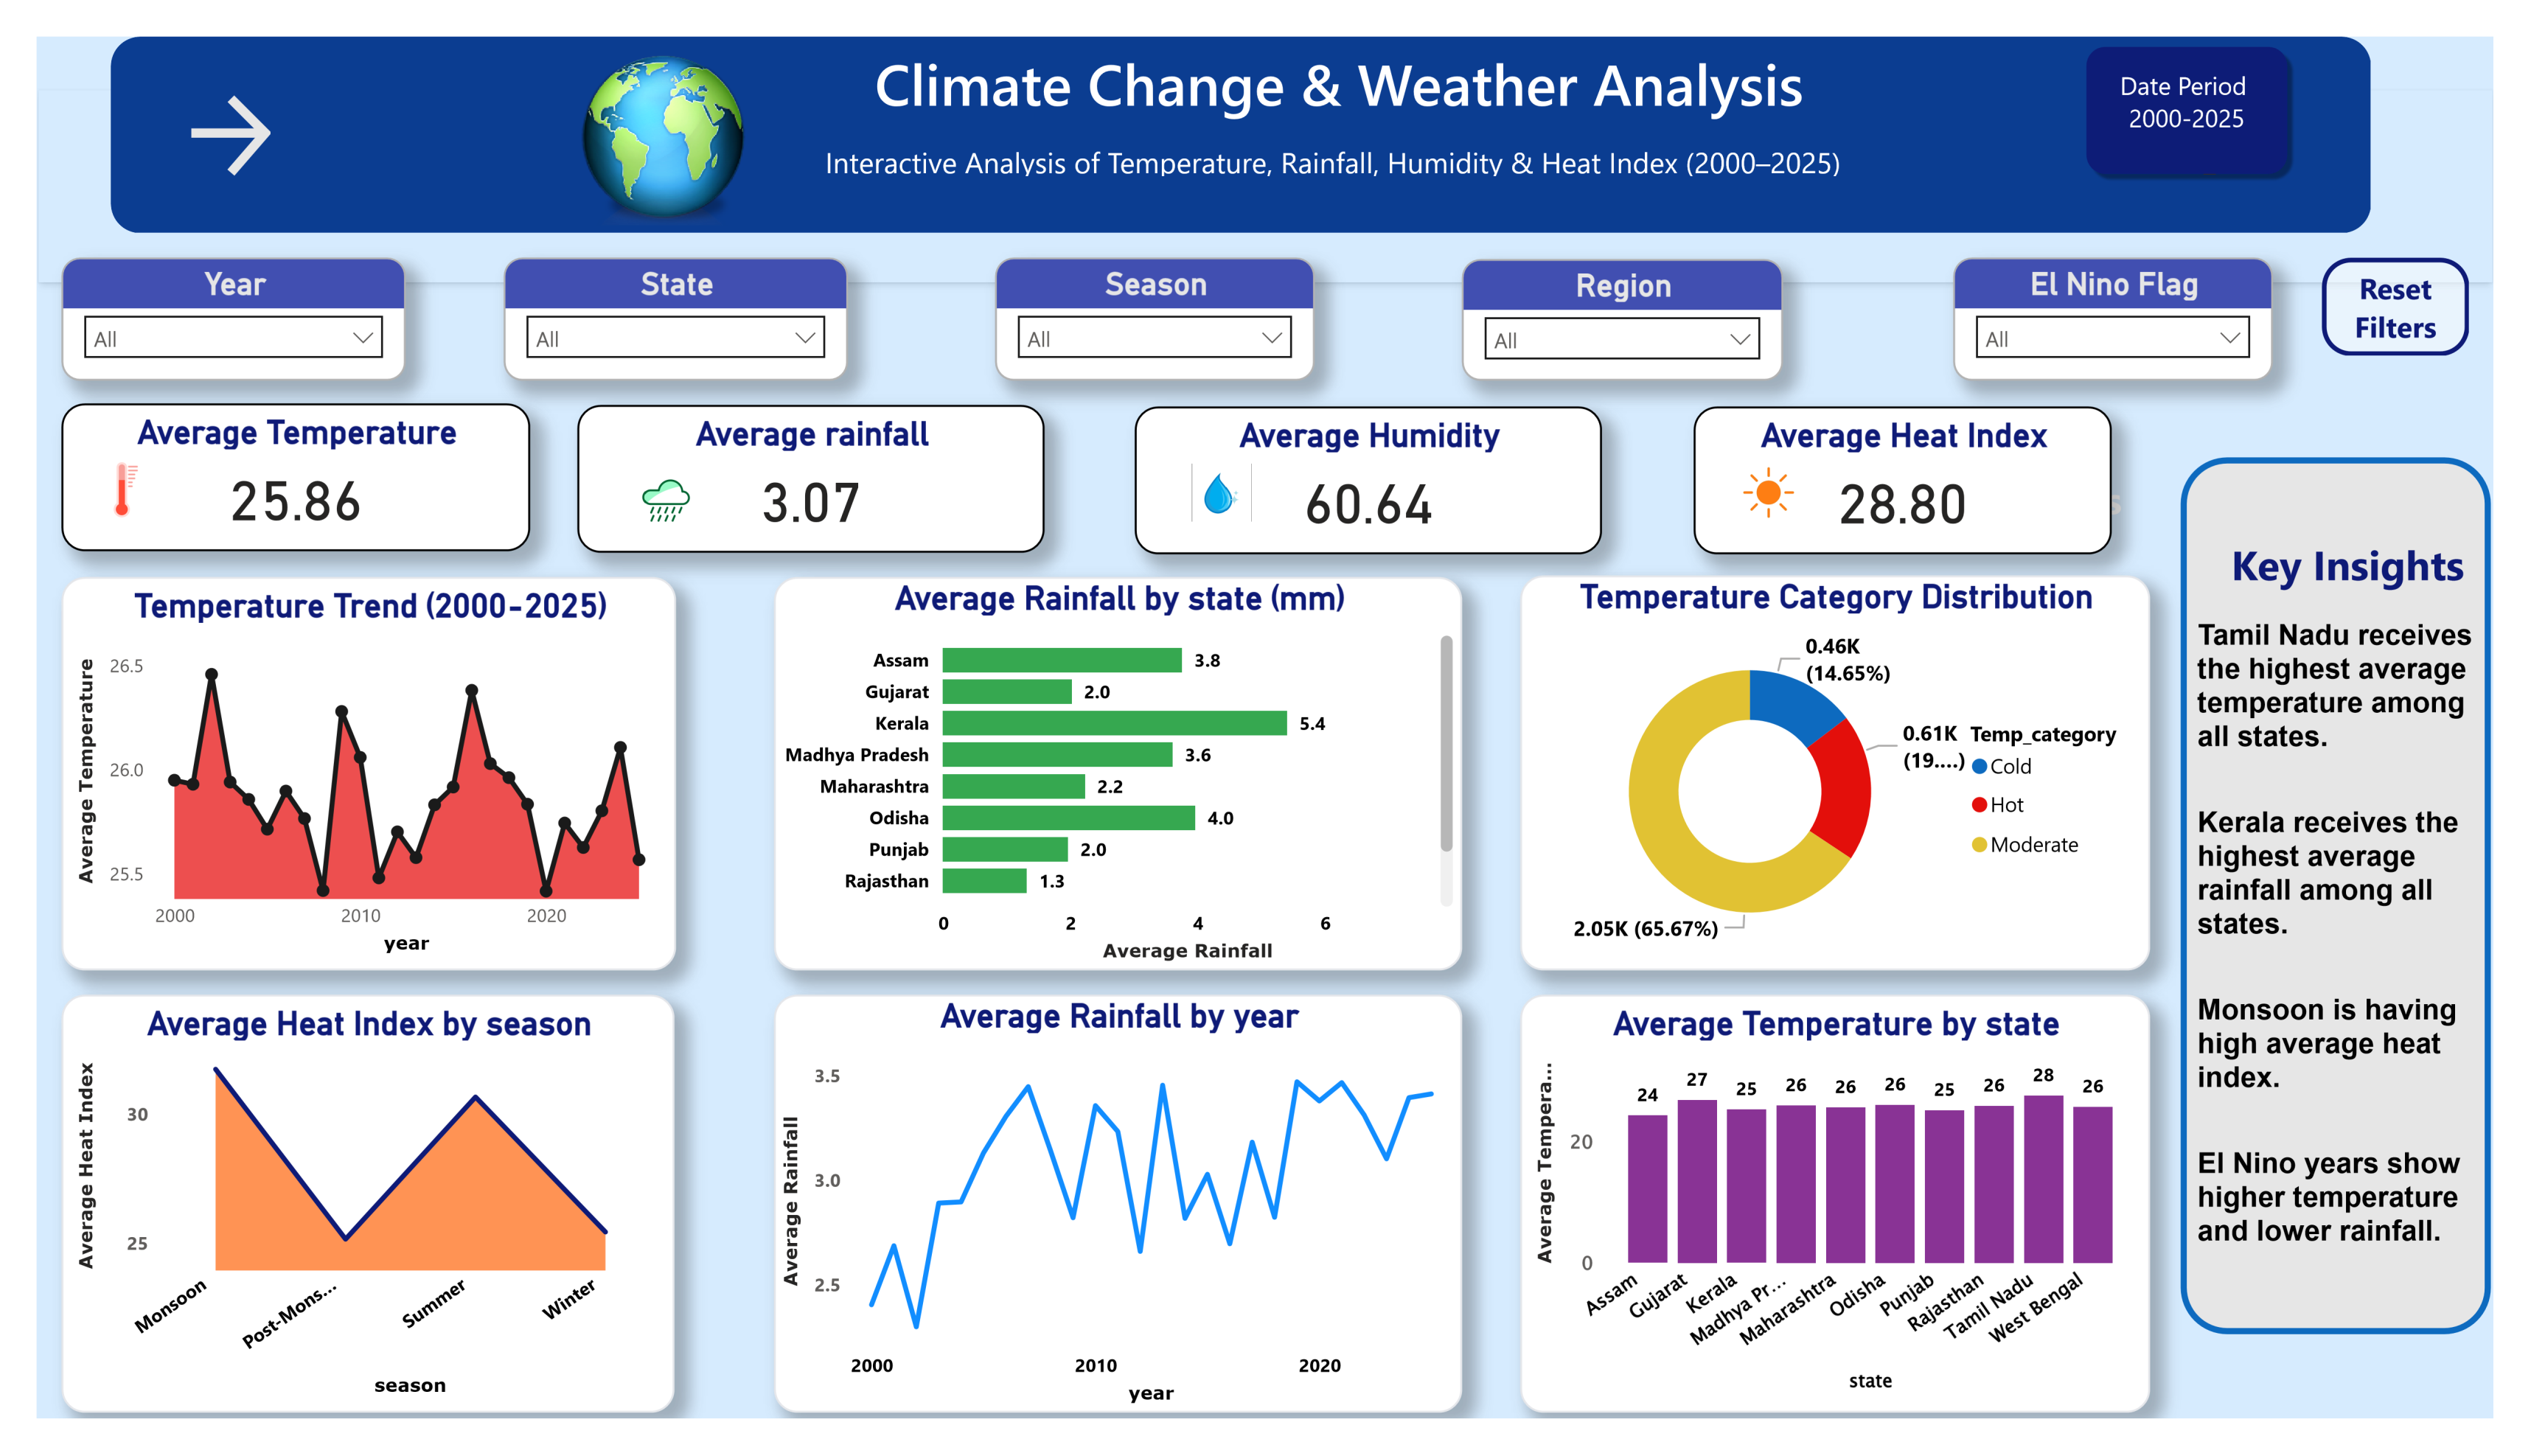

This screenshot's page, from the dashboard's own definition file:
{"tool":"powerbi","page":{"name":"Analysis","canvas":[1600,900],"ordinal":0},"visuals":[{"type":"slicer","title":"Season","fields":{"Values":["climate_analysis climate_data.season"]},"box":[624,144,208,80],"z":0},{"type":"card","title":"Average Temperature","fields":{"Values":["climate_analysis climate_data.Average Temperature"]},"box":[16,240,304,96],"z":0,"group":"g2"},{"type":"slicer","title":"State","fields":{"Values":["climate_analysis climate_data.state"]},"box":[304,144,224,80],"z":1000},{"type":"image","box":[32,272,48,48],"z":1000,"group":"g2"},{"type":"shape","box":[1396.3,273.7,202.1,570.7],"z":1000,"group":"g8"},{"type":"slicer","title":"El Nino Flag","fields":{"Values":["climate_analysis climate_data.el_nino_flag"]},"box":[1248,144,208,80],"z":2000},{"type":"textbox","box":[1402.5,373.2,192.8,451.4],"z":2000,"group":"g8"},{"type":"slicer","title":"Region","fields":{"Values":["climate_analysis climate_data.region"]},"box":[928.3,144.6,208.4,79.3],"z":3000},{"type":"card","title":"Average Humidity","fields":{"Values":["climate_analysis climate_data.Average Humidity"]},"box":[715.3,241,304,96],"z":4000,"group":"g6"},{"type":"textbox","box":[1216.4,279.8,148.1,62.5],"z":4000},{"type":"image","box":[543,96,55.1,32],"z":5000},{"type":"image","box":[763.6,96,36.8,32],"z":6000},{"type":"card","title":"Average rainfall","fields":{"Values":["climate_analysis climate_data.Average Rainfall"]},"box":[352,240,304,96],"z":6000,"group":"g3"},{"type":"image","box":[965.8,96,55.1,32],"z":7000},{"type":"image","box":[322.4,96,55.1,32],"z":8000},{"type":"card","title":"Average Heat Index","fields":{"Values":["climate_analysis climate_data.average Heat Index"]},"box":[1079.1,241,272,96],"z":8000,"group":"g4"},{"type":"shape","box":[48,0,1472,128],"z":9000},{"type":"textbox","box":[304,0,1088,64],"z":10000},{"type":"textbox","box":[272,64,1152,32],"z":11000},{"type":"image","box":[304,0,208,128],"z":12000},{"type":"slicer","title":"Year","fields":{"Values":["climate_analysis climate_data.year"]},"box":[16,144,224,80],"z":12000,"group":"g1"},{"type":"shape","box":[1328,0,144,96],"z":13000,"group":"g5"},{"type":"actionButton","title":"Reset Filters","box":[1488,144,96,64],"z":13000},{"type":"textbox","box":[1344,16,112,64],"z":14000,"group":"g5"},{"type":"group","id":"g1","title":"Group 1","box":[16,144,224,80],"z":14000},{"type":"group","id":"g2","title":"Group 3","box":[16,240,304,96],"z":15000},{"type":"group","id":"g3","title":"Group 4","box":[352,240,304,98],"z":16000},{"type":"group","id":"g4","title":"Group 5","box":[1079.1,241,272.1,96.4],"z":17000},{"type":"lineChart","title":"Temperature Trend (2000-2025)","fields":{"Category":["climate_analysis climate_data.year"],"Y":["climate_analysis climate_data.Average Temperature"]},"box":[16,352,400,256],"z":18000},{"type":"group","id":"g5","title":"Group 2","box":[1328,0,144,96],"z":19000},{"type":"group","id":"g6","title":"Group 6","box":[715.3,241,304.8,96.4],"z":20000},{"type":"image","box":[358.2,266.4,102.6,71.5],"z":20004,"group":"g3"},{"type":"image","box":[731.3,273,80,48],"z":20006,"group":"g6"},{"type":"image","box":[1095.1,273,64,48],"z":20008,"group":"g4"},{"type":"clusteredBarChart","title":"Average Rainfall by state (mm)","fields":{"Category":["climate_analysis climate_data.state"],"Y":["climate_analysis climate_data.Average Rainfall"]},"box":[480,352,448,256],"z":21000},{"type":"donutChart","title":"Temperature Category Distribution","fields":{"Category":["climate_analysis climate_data.temp_category"],"Y":["CountNonNull(climate_analysis climate_data.temp_category)"]},"box":[965.6,351.4,410.5,256.6],"z":22000},{"type":"areaChart","fields":{"Category":["climate_analysis climate_data.season"],"Y":["climate_analysis climate_data.Average Heat Index"]},"box":[15.5,623.5,399.6,272.1],"z":23000},{"type":"columnChart","fields":{"Y":["climate_analysis climate_data.Average Temperature"],"Category":["climate_analysis climate_data.state"]},"box":[965.6,623.5,410.5,272.1],"z":24000},{"type":"lineChart","fields":{"Category":["climate_analysis climate_data.year"],"Y":["climate_analysis climate_data.Average Rainfall"]},"box":[480,624,448,272],"z":25000},{"type":"group","id":"g7","title":"Group 7","box":[1396.3,273.7,202.1,570.7],"z":26000},{"type":"group","id":"g8","title":"Group 8","box":[1396.3,273.7,202.1,570.7],"z":26003,"group":"g7"},{"type":"textbox","box":[1424.3,320.3,174.2,51.3],"z":27000},{"type":"actionButton","box":[80.9,32.7,87.1,63.8],"z":27001}]}

Visuals, with their boxes on the page's 1600x900 design canvas (x1, y1, x2, y2). These are canvas units, not pixel positions in the 2531x1456 screenshot, which may show the page scaled, cropped or inside an application window:
"Season" slicer: {"x1": 624, "y1": 144, "x2": 832, "y2": 224}
"Average Temperature" card: {"x1": 16, "y1": 240, "x2": 320, "y2": 336}
"State" slicer: {"x1": 304, "y1": 144, "x2": 528, "y2": 224}
image: {"x1": 32, "y1": 272, "x2": 80, "y2": 320}
shape: {"x1": 1396, "y1": 274, "x2": 1598, "y2": 844}
"El Nino Flag" slicer: {"x1": 1248, "y1": 144, "x2": 1456, "y2": 224}
textbox: {"x1": 1402, "y1": 373, "x2": 1595, "y2": 825}
"Region" slicer: {"x1": 928, "y1": 145, "x2": 1137, "y2": 224}
"Average Humidity" card: {"x1": 715, "y1": 241, "x2": 1019, "y2": 337}
textbox: {"x1": 1216, "y1": 280, "x2": 1364, "y2": 342}
image: {"x1": 543, "y1": 96, "x2": 598, "y2": 128}
image: {"x1": 764, "y1": 96, "x2": 800, "y2": 128}
"Average rainfall" card: {"x1": 352, "y1": 240, "x2": 656, "y2": 336}
image: {"x1": 966, "y1": 96, "x2": 1021, "y2": 128}
image: {"x1": 322, "y1": 96, "x2": 378, "y2": 128}
"Average Heat Index" card: {"x1": 1079, "y1": 241, "x2": 1351, "y2": 337}
shape: {"x1": 48, "y1": 0, "x2": 1520, "y2": 128}
textbox: {"x1": 304, "y1": 0, "x2": 1392, "y2": 64}
textbox: {"x1": 272, "y1": 64, "x2": 1424, "y2": 96}
image: {"x1": 304, "y1": 0, "x2": 512, "y2": 128}
"Year" slicer: {"x1": 16, "y1": 144, "x2": 240, "y2": 224}
shape: {"x1": 1328, "y1": 0, "x2": 1472, "y2": 96}
"Reset Filters" actionButton: {"x1": 1488, "y1": 144, "x2": 1584, "y2": 208}
textbox: {"x1": 1344, "y1": 16, "x2": 1456, "y2": 80}
"Group 1" group: {"x1": 16, "y1": 144, "x2": 240, "y2": 224}
"Group 3" group: {"x1": 16, "y1": 240, "x2": 320, "y2": 336}
"Group 4" group: {"x1": 352, "y1": 240, "x2": 656, "y2": 338}
"Group 5" group: {"x1": 1079, "y1": 241, "x2": 1351, "y2": 337}
"Temperature Trend (2000-2025)" lineChart: {"x1": 16, "y1": 352, "x2": 416, "y2": 608}
"Group 2" group: {"x1": 1328, "y1": 0, "x2": 1472, "y2": 96}
"Group 6" group: {"x1": 715, "y1": 241, "x2": 1020, "y2": 337}
image: {"x1": 358, "y1": 266, "x2": 461, "y2": 338}
image: {"x1": 731, "y1": 273, "x2": 811, "y2": 321}
image: {"x1": 1095, "y1": 273, "x2": 1159, "y2": 321}
"Average Rainfall by state (mm)" clusteredBarChart: {"x1": 480, "y1": 352, "x2": 928, "y2": 608}
"Temperature Category Distribution" donutChart: {"x1": 966, "y1": 351, "x2": 1376, "y2": 608}
areaChart - climate_analysis climate_data.season x climate_analysis climate_data.Average Heat Index: {"x1": 16, "y1": 624, "x2": 415, "y2": 896}
columnChart - climate_analysis climate_data.Average Temperature x climate_analysis climate_data.state: {"x1": 966, "y1": 624, "x2": 1376, "y2": 896}
lineChart - climate_analysis climate_data.year x climate_analysis climate_data.Average Rainfall: {"x1": 480, "y1": 624, "x2": 928, "y2": 896}
"Group 7" group: {"x1": 1396, "y1": 274, "x2": 1598, "y2": 844}
"Group 8" group: {"x1": 1396, "y1": 274, "x2": 1598, "y2": 844}
textbox: {"x1": 1424, "y1": 320, "x2": 1598, "y2": 372}
actionButton: {"x1": 81, "y1": 33, "x2": 168, "y2": 96}
